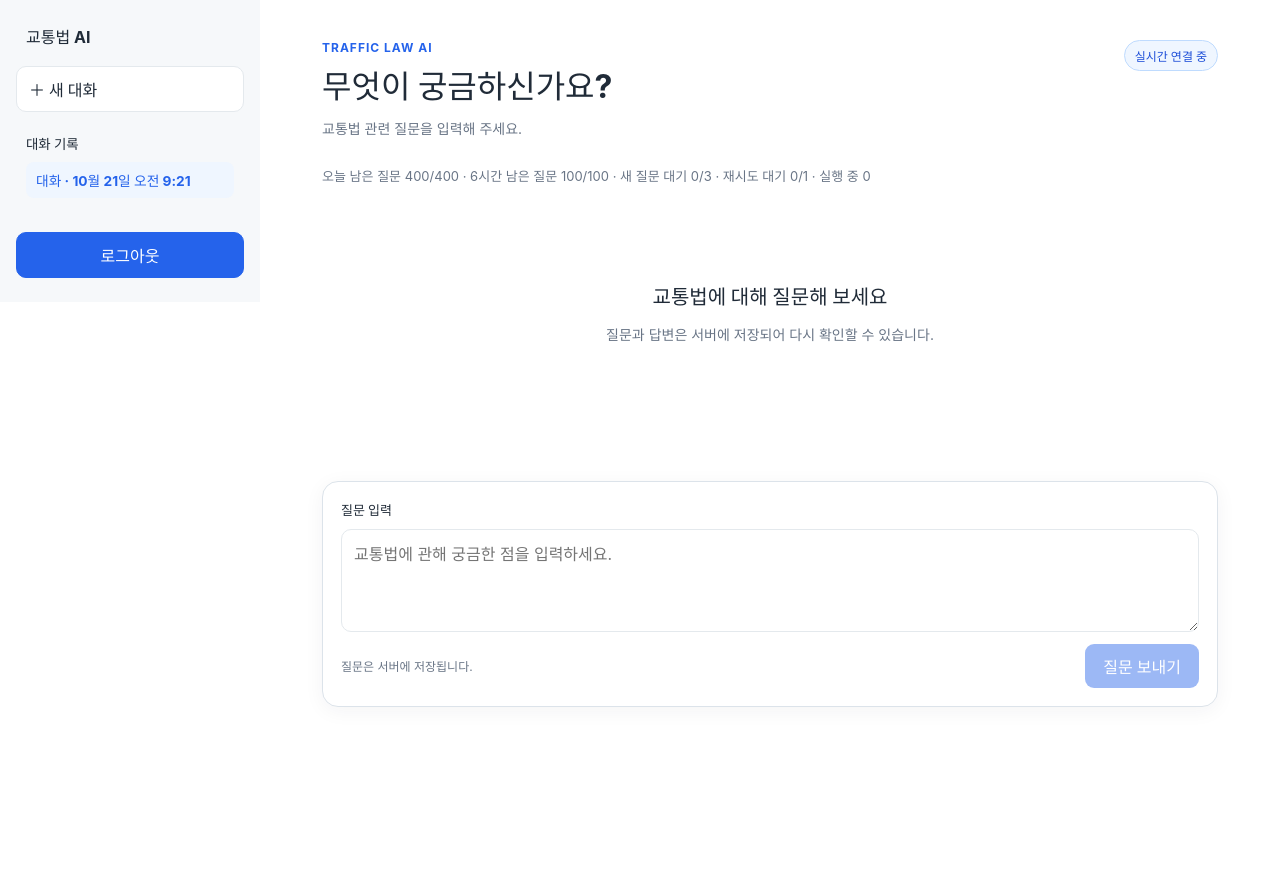
Test: 성공한 뒤의 새 질문은 새 request_key를 쓴다
The width and height of the screenshot is (1280, 892).
Type "같은 질문" into the text box labelled "질문 입력" at (770, 581), box left=341, top=529, right=1199, bottom=632
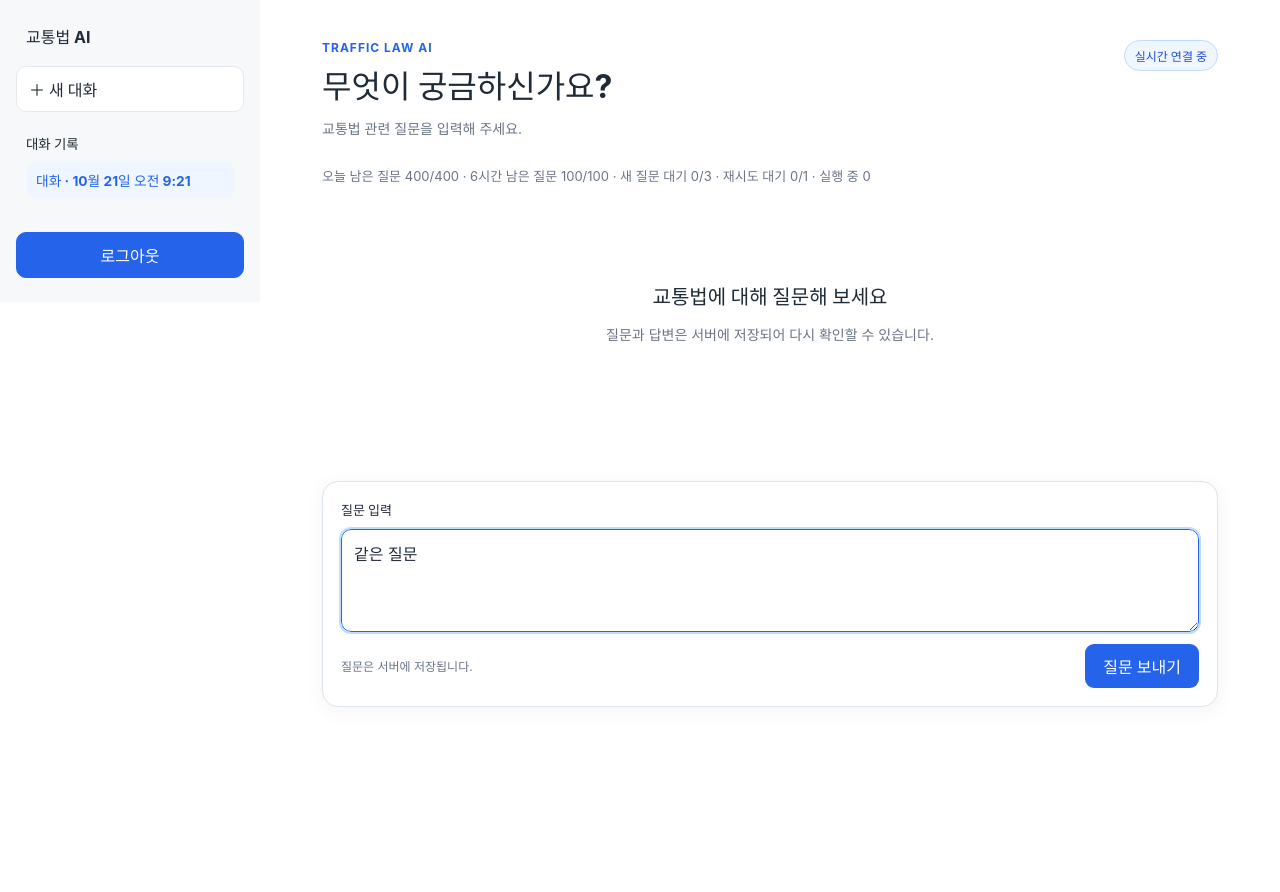
Click the button "질문 보내기" at (1142, 666), box left=1085, top=644, right=1199, bottom=688
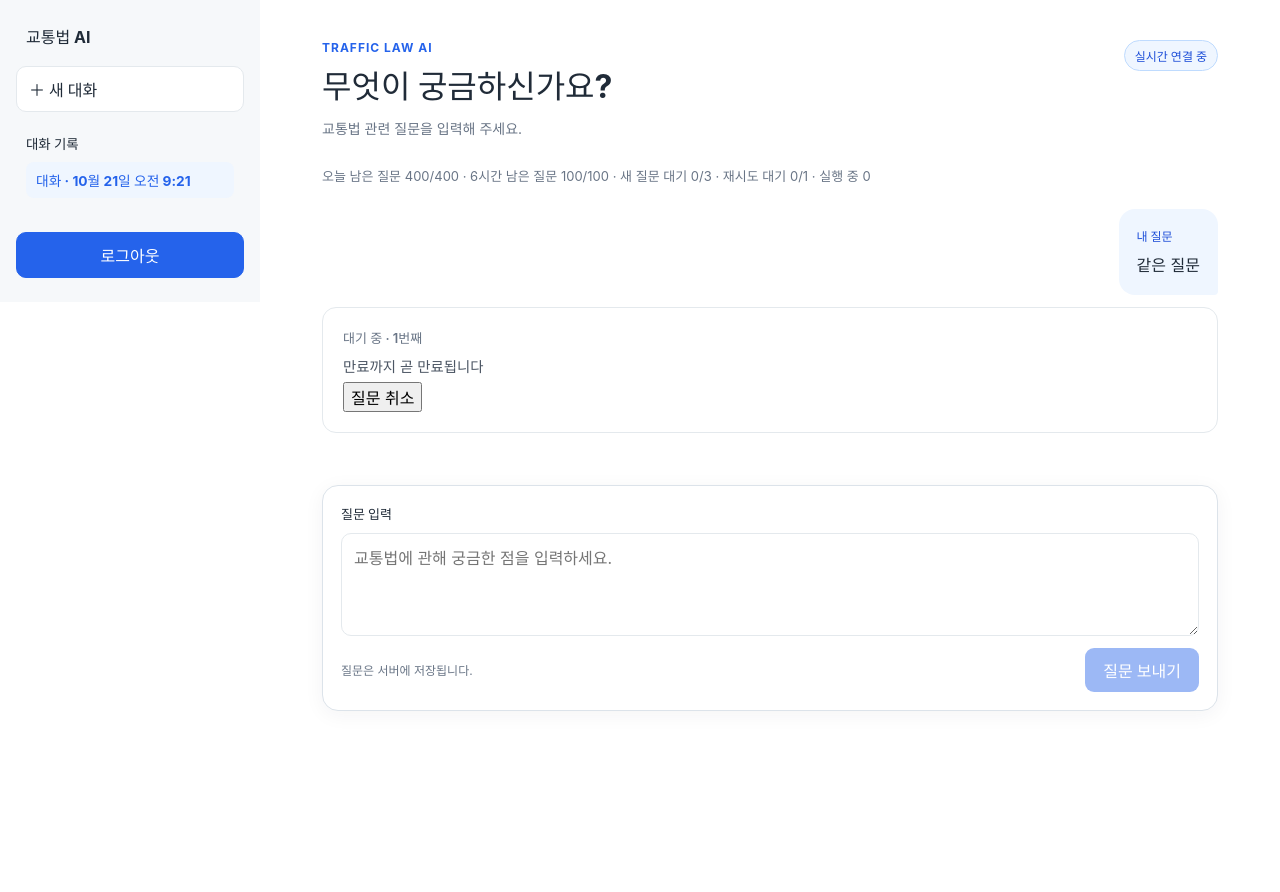
Now the text box labelled "질문 입력" is empty
Type "같은 질문" into the text box labelled "질문 입력" at (770, 584), box left=341, top=533, right=1199, bottom=636
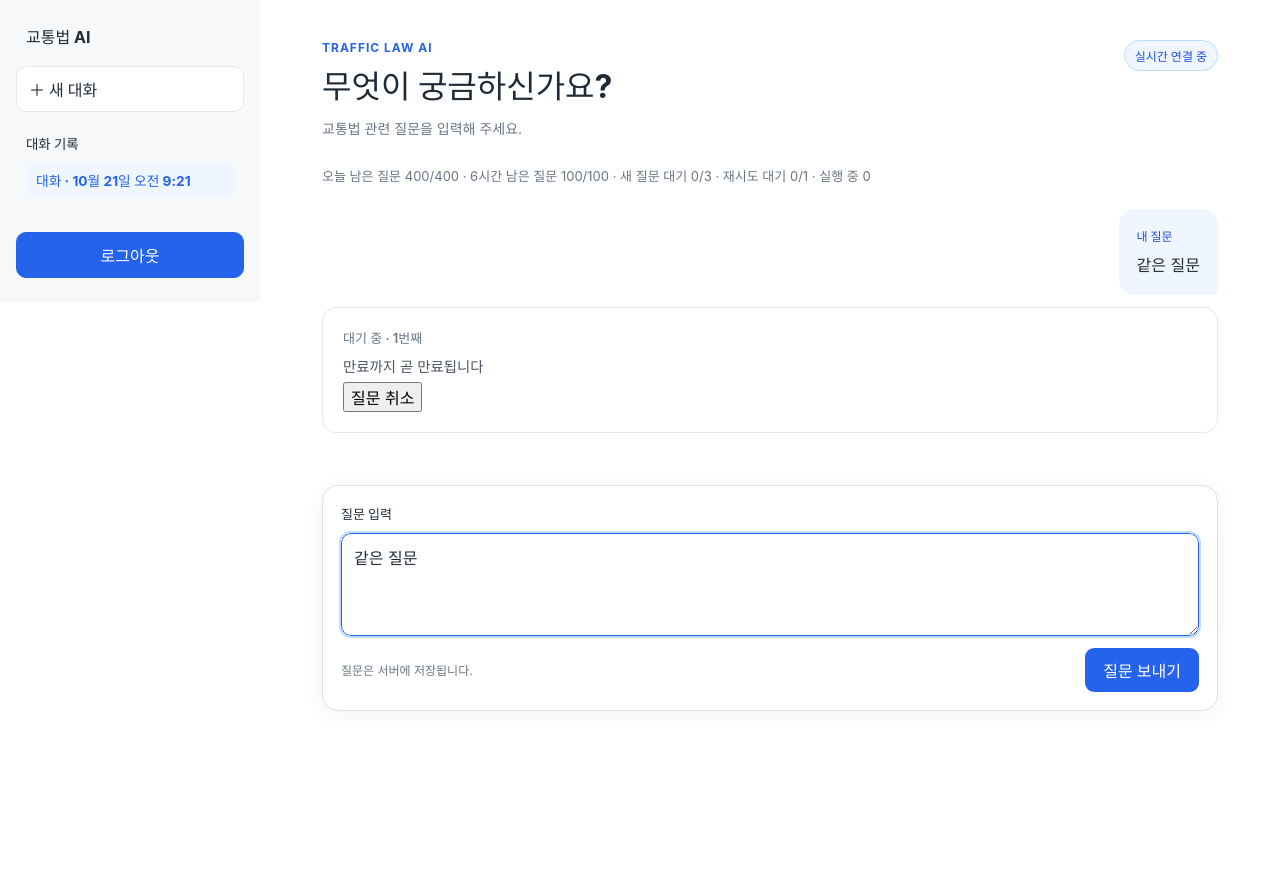
Click the button "질문 보내기" at (1142, 670), box left=1085, top=648, right=1199, bottom=692
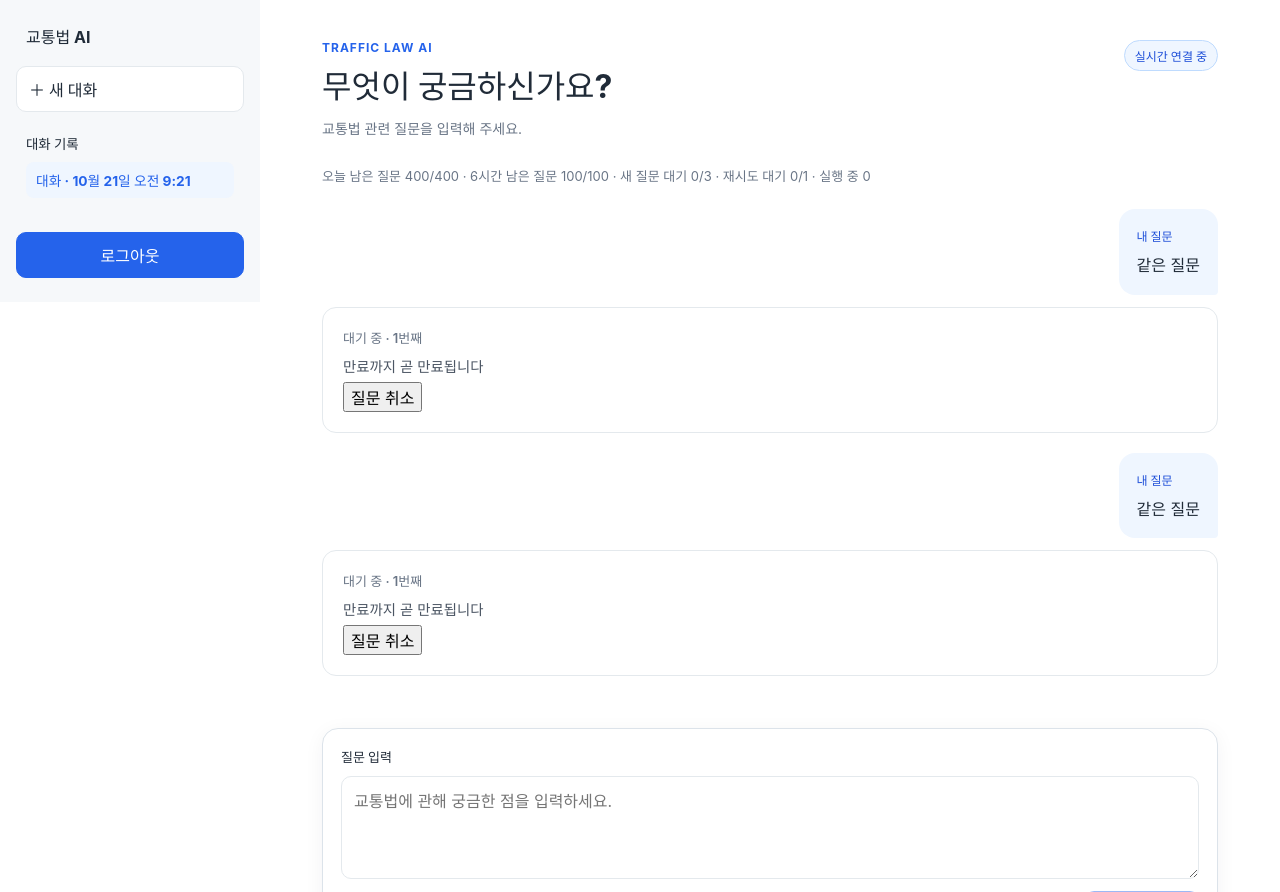
Now the text box labelled "질문 입력" is empty, box left=341, top=776, right=1199, bottom=879
Now the text "같은 질문" is shown 2 times, box left=1137, top=253, right=1200, bottom=279; left=1137, top=497, right=1200, bottom=522
